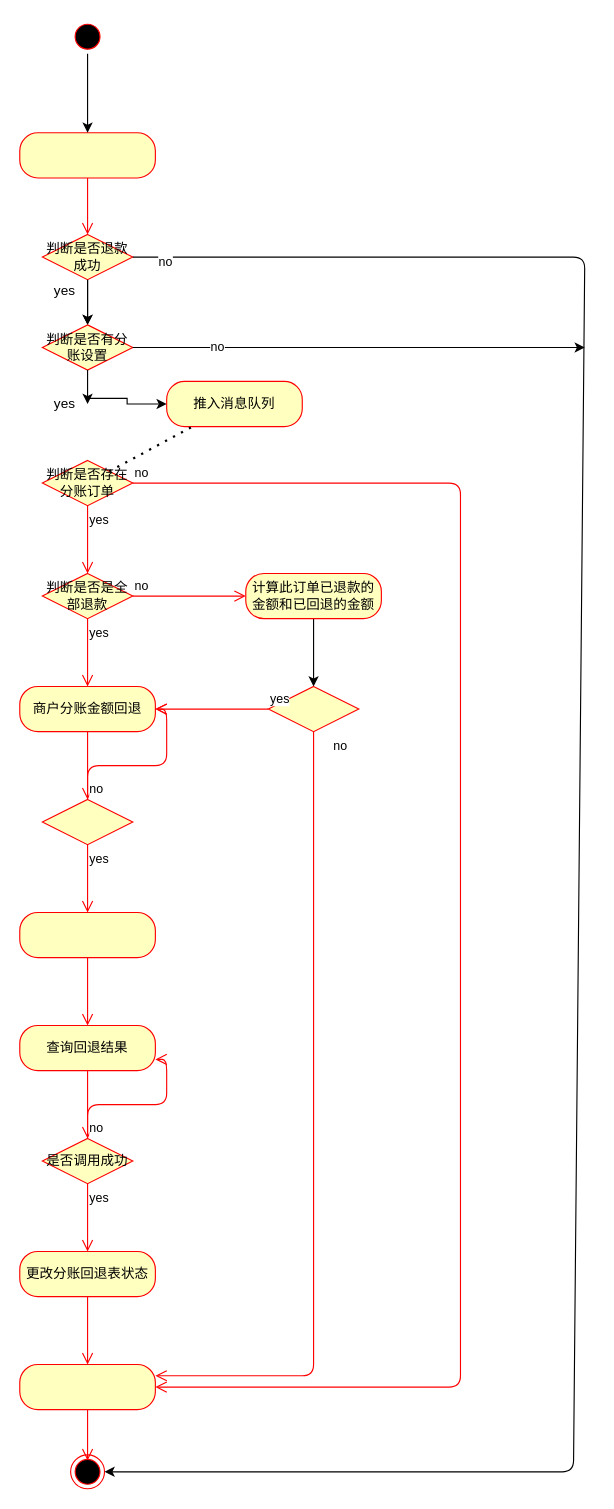
This 614x1509 diagram has some shape labels left out. Here are the shapes that lost their labels. From the top down, the centre of each, then its label:
[87,155]: 申请退款
[313,708]: 判断已退款金额比例和和回退的比例是否相同
[87,821]: 判断是否成功
[87,934]: 保存分账回退表
[87,1386]: 结束
